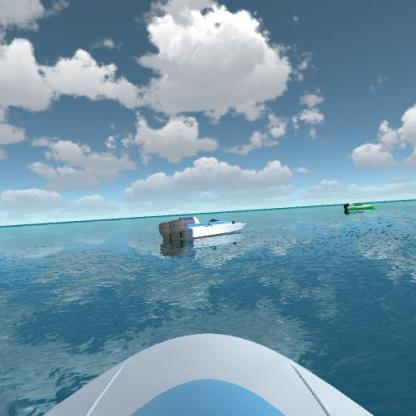usv0: (341, 197, 380, 218)
usv1: (155, 209, 255, 246)
